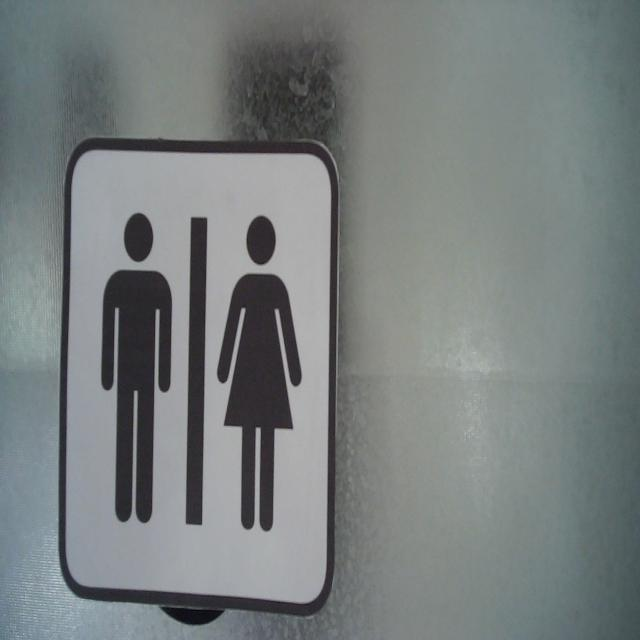restroom: (56, 133, 342, 622)
